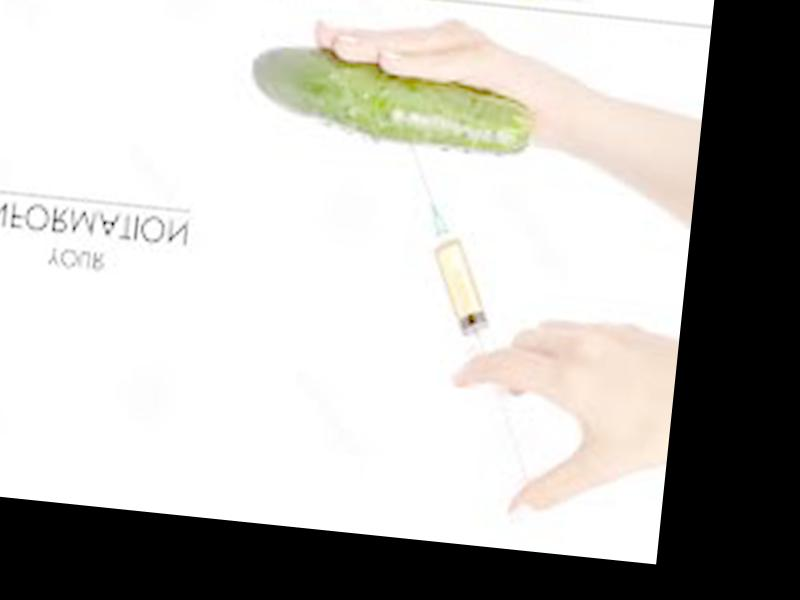Cucumber: (246, 43, 538, 156)
